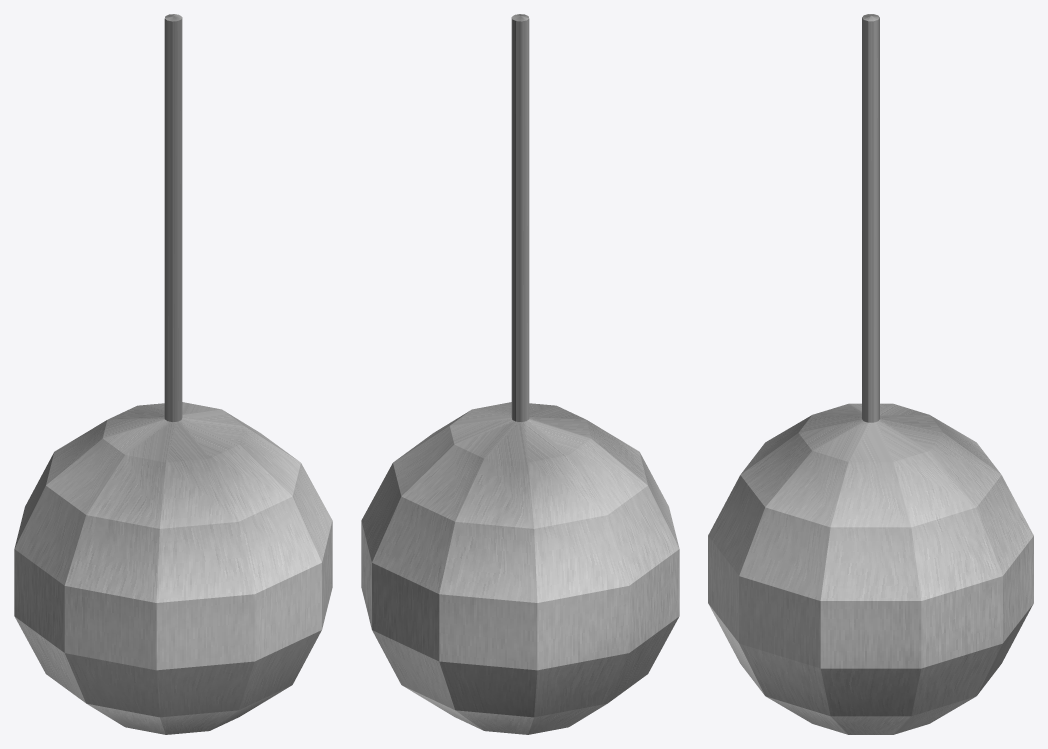
The model's file is clubball.glb.
3 views of the same model, side by side, from view 1: azimuth 30°, elevation 25°; view 2: azimuth 150°, elevation 25°; view 3: azimuth 270°, elevation 25° (orthographic).
Parts seen in each view (by area): view 1: BALL; view 2: BALL; view 3: BALL.
Boxes of the visible parts, left/top/right/bottom form: BALL: left=14, top=14, right=332, bottom=734; BALL: left=361, top=14, right=679, bottom=734; BALL: left=708, top=14, right=1033, bottom=734.
Bounding box in the file's own units: 1.89 × 4.75 × 1.99.
1 material, 1 textured.
